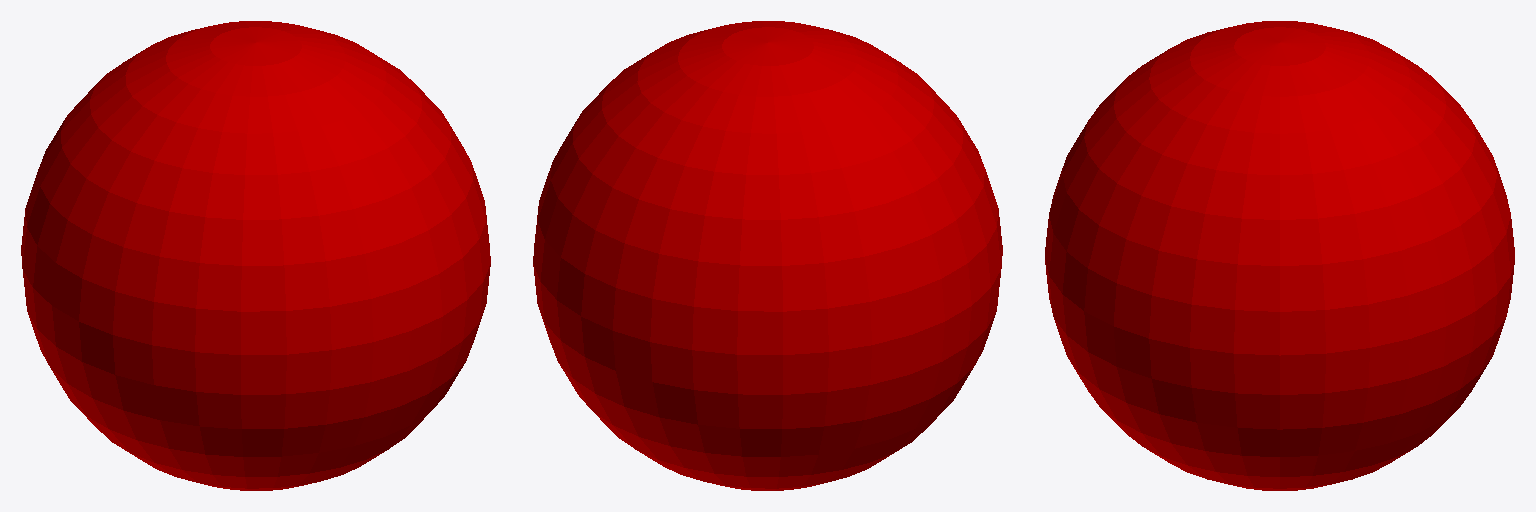
File: Explosion0.obj
3 renders of one model, left to right at view 1: azimuth 30°, elevation 25°; view 2: azimuth 150°, elevation 25°; view 3: azimuth 270°, elevation 25°, orthographic.
Visible parts, largest first — view 1: 球; view 2: 球; view 3: 球.
Part boxes in pixels (bbox=[...]): 球: bbox=[21, 21, 490, 490]; 球: bbox=[533, 21, 1002, 490]; 球: bbox=[1045, 21, 1514, 490].
Bounding box in the file's own units: 7.81 × 7.81 × 7.81.